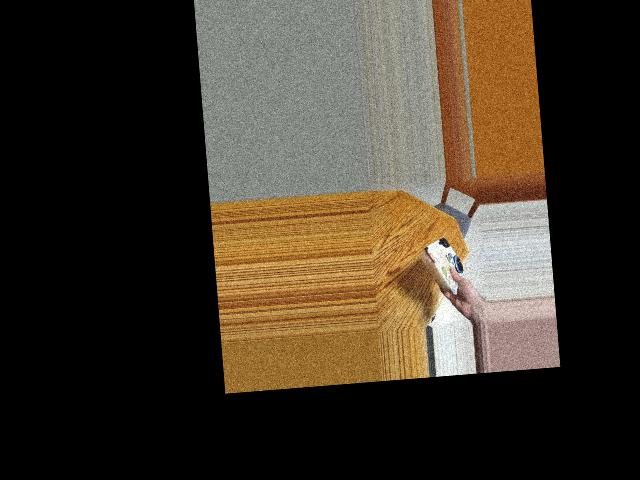cheese: (414, 238, 471, 288)
